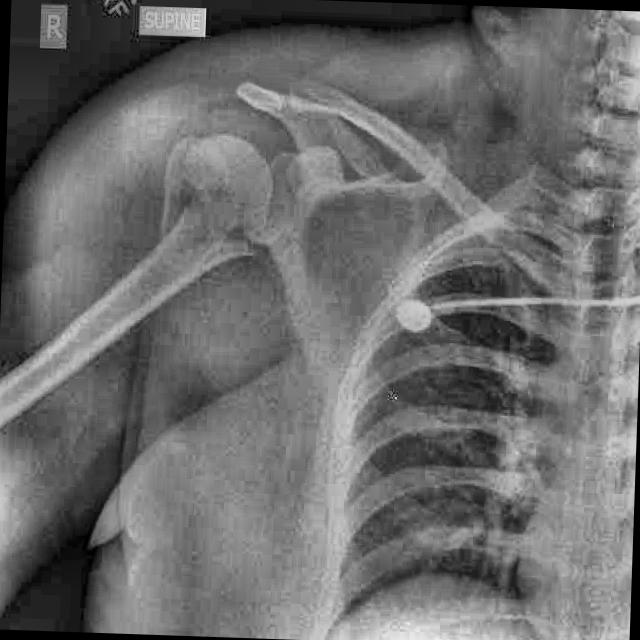shoulder fracture: (190, 190, 299, 309), (144, 124, 220, 255)
